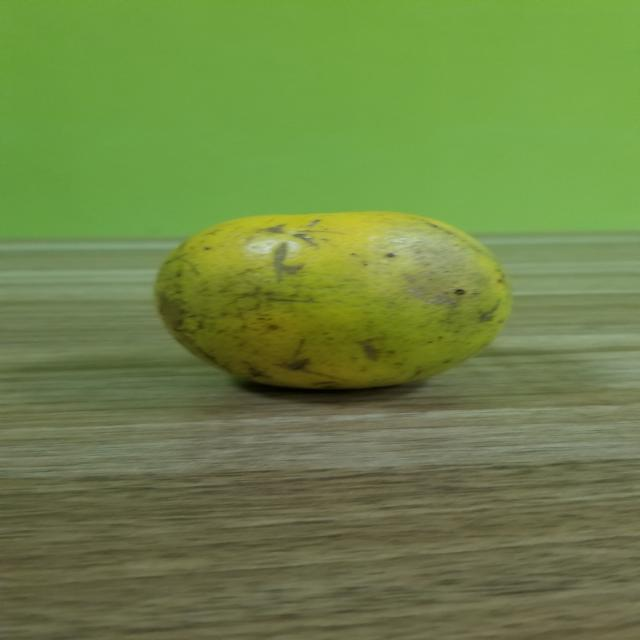Ripe orange: (137, 206, 526, 397)
